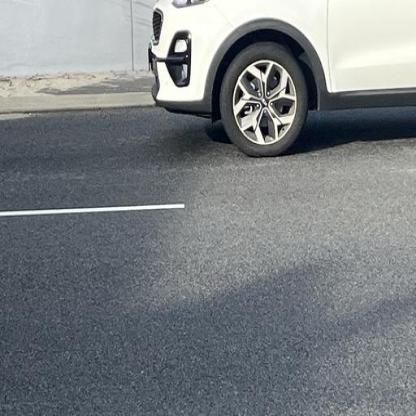Tire: (219, 43, 306, 159)
